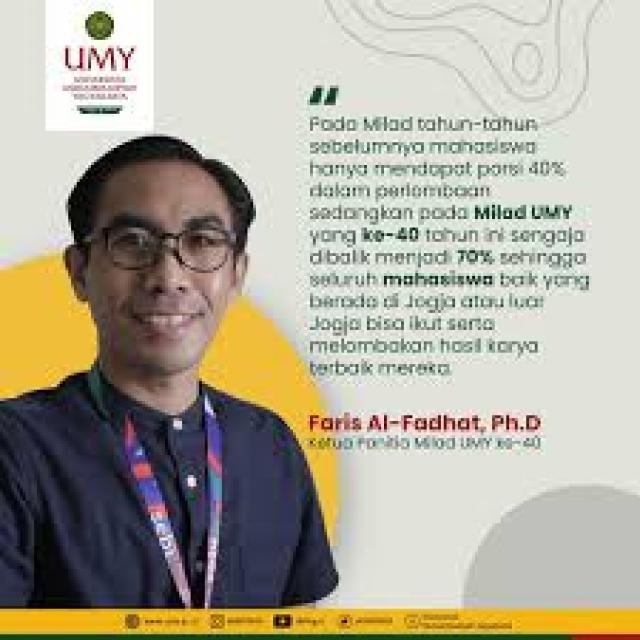Glasses: (85, 210, 245, 276)
